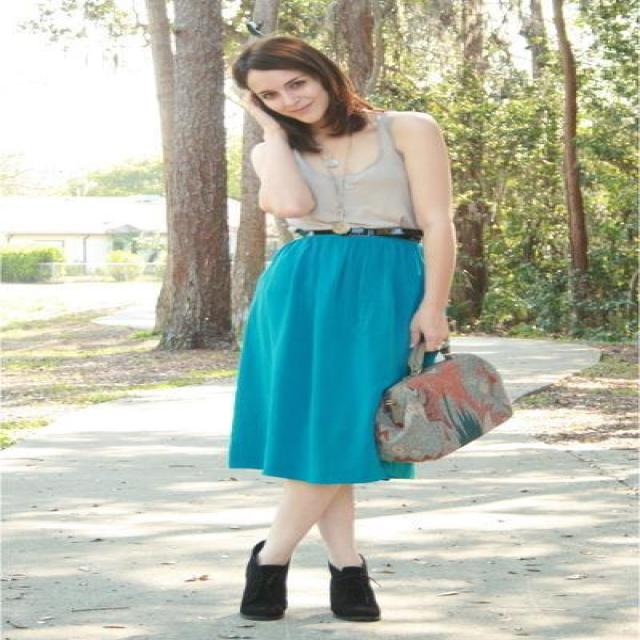bag: (373, 354, 512, 465)
shirt: (266, 115, 422, 242)
shoe: (242, 550, 379, 621)
skirt: (229, 234, 424, 483)
